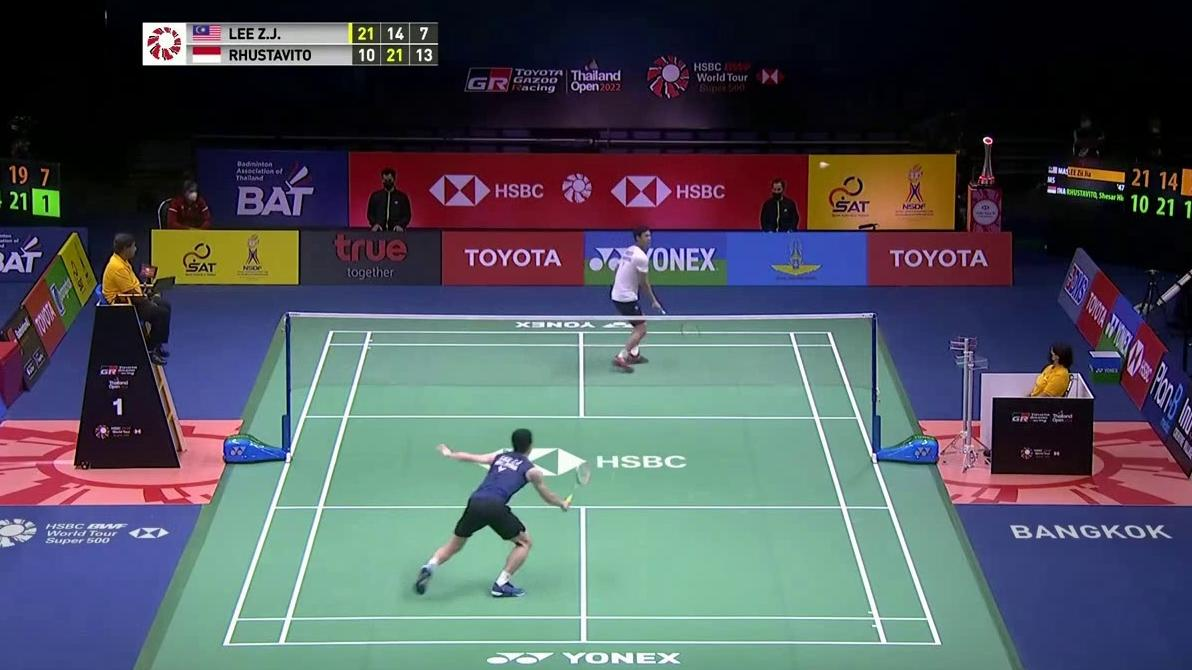racket: (656, 306, 700, 341), (564, 461, 592, 511)
shuttle: (818, 160, 831, 169)
